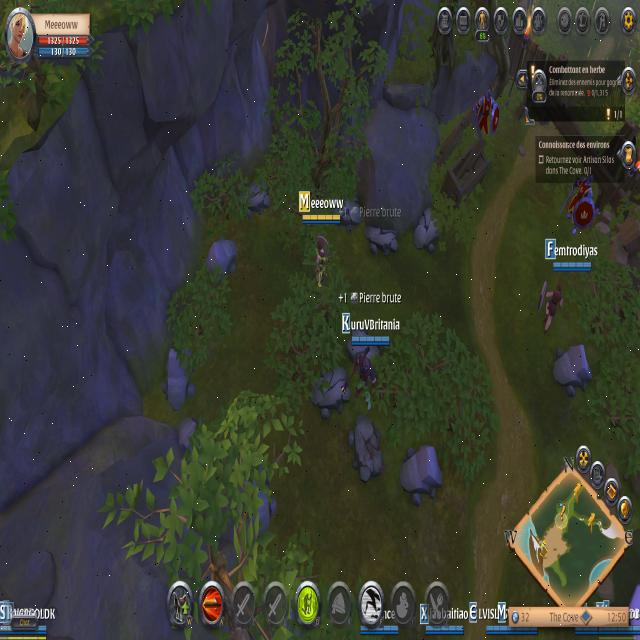broken stone: (344, 415, 388, 490), (308, 361, 350, 417), (234, 174, 271, 220), (412, 202, 443, 256), (365, 218, 399, 264), (332, 190, 363, 234)
stone: (398, 442, 444, 510), (550, 340, 592, 400), (161, 347, 196, 412), (203, 237, 238, 287)
